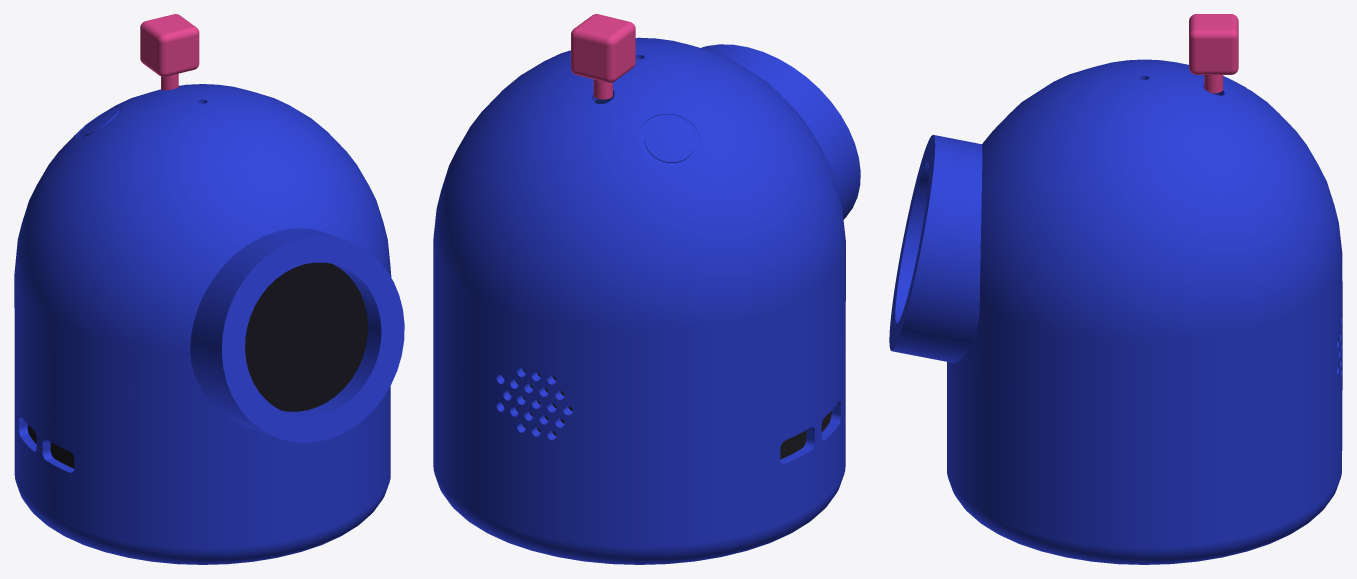
File: carcasa-capsula.glb
The picture shows the model from 3 angles, left to right: view 1: azimuth 30°, elevation 25°; view 2: azimuth 150°, elevation 25°; view 3: azimuth 270°, elevation 25°; orthographic projection. The views are drawn at different scales.
Visible parts, largest first — view 1: carcasa:cupula, carcasa:copa, pieza:pantalla, carcasa:antena; view 2: carcasa:cupula, carcasa:copa, carcasa:antena, pieza:pila_devkit; view 3: carcasa:cupula, carcasa:copa, carcasa:antena.
Boxes of the visible parts, <box> form: carcasa:cupula: <box>14,84,404,445</box>; carcasa:copa: <box>14,373,390,564</box>; pieza:pantalla: <box>245,262,367,411</box>; carcasa:antena: <box>140,14,199,90</box>; carcasa:cupula: <box>433,37,860,434</box>; carcasa:copa: <box>433,354,845,564</box>; carcasa:antena: <box>571,14,635,99</box>; pieza:pila_devkit: <box>780,411,831,459</box>; carcasa:cupula: <box>889,59,1342,439</box>; carcasa:copa: <box>947,359,1342,564</box>; carcasa:antena: <box>1189,14,1238,93</box>.
Size of the model in its own units: 0.08 by 0.1045 by 0.0915.
